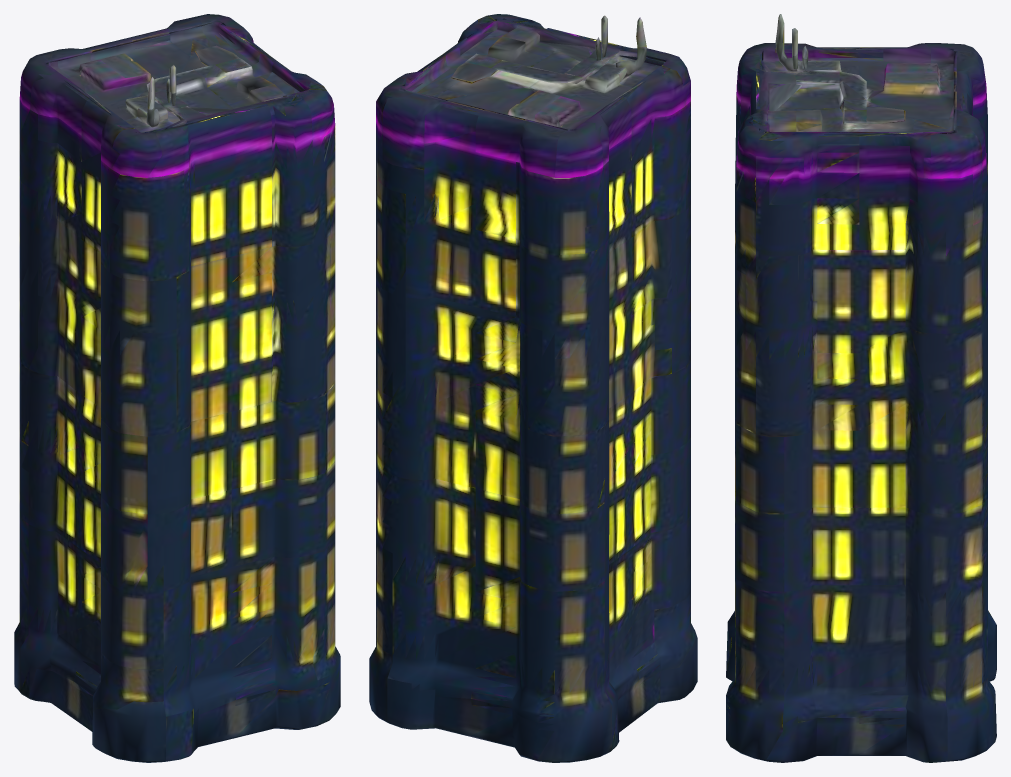
Rendered from building_sky.glb.
The picture shows the model from 3 angles, left to right: view 1: azimuth 30°, elevation 25°; view 2: azimuth 150°, elevation 25°; view 3: azimuth 270°, elevation 25°; orthographic projection.
Bounding box in the file's own units: 0.7084 × 1.91 × 0.7084.
1 material, 1 textured.
